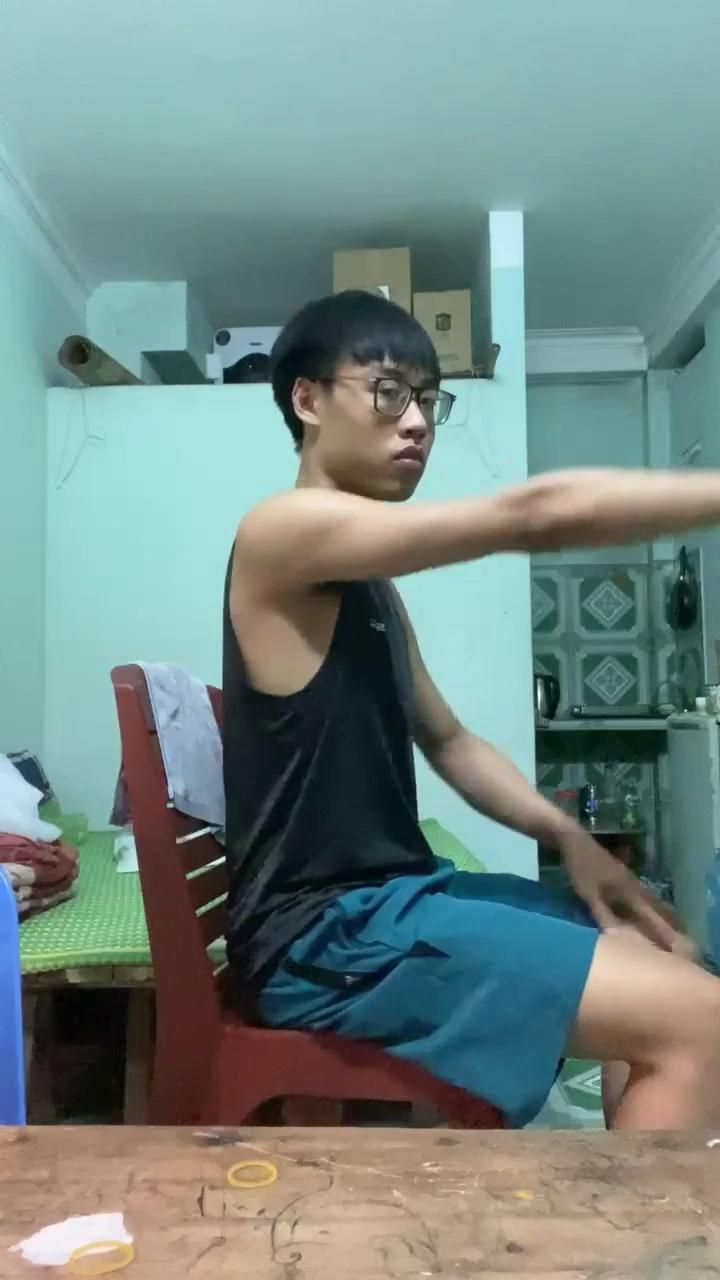GoodPosture: (220, 288, 719, 1131)
